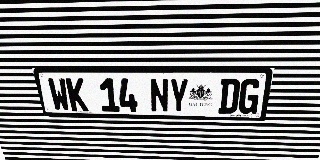1: (98, 78, 120, 112)
4: (117, 78, 138, 112)
D: (218, 79, 241, 114)
G: (237, 79, 262, 114)
K: (65, 78, 89, 111)
N: (150, 78, 169, 113)
W: (47, 78, 71, 111)
Y: (169, 78, 189, 113)
